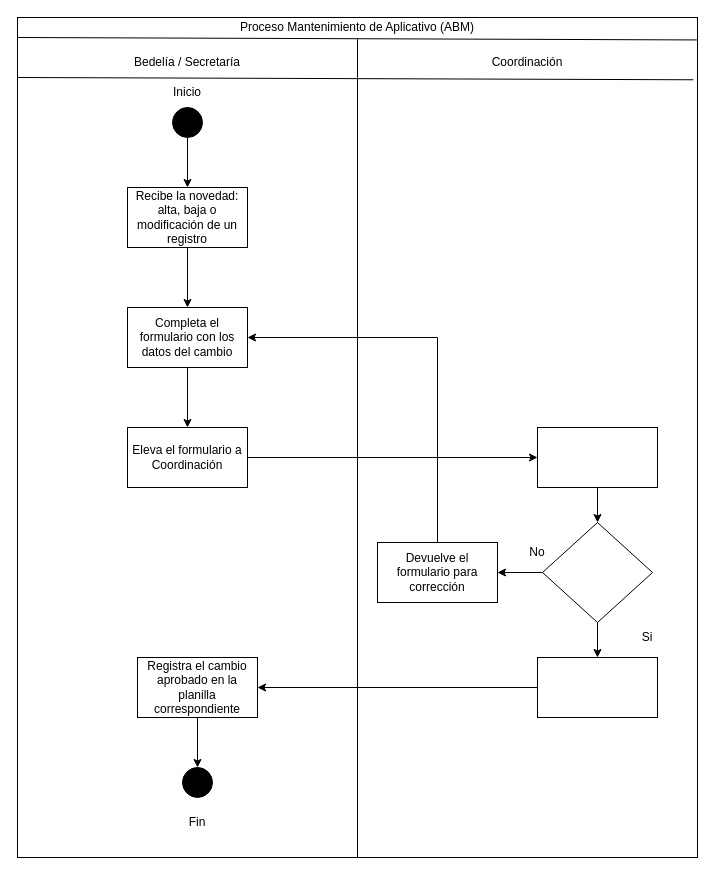
Some shapes in this 716 by 876 pixel diagram are drawn without their labels. The box of each missing label's shape, as (x1, y1, x2, y2) in pixels:
Aprueba y firma la novedad: (536, 656, 658, 718)
Revisa los datos del formulario: (536, 426, 658, 488)
¿El cambio es válido?: (542, 522, 652, 622)
